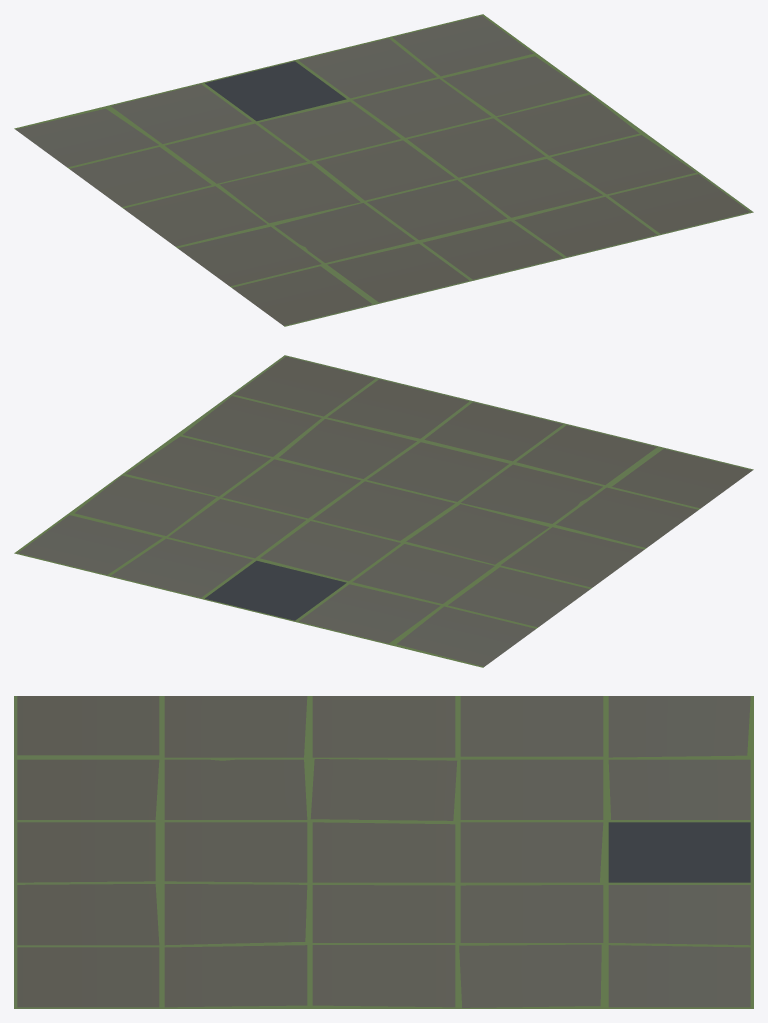
File: Tile_06.fbx
The picture shows the model from 3 angles, top to bottom: view 1: azimuth 30°, elevation 25°; view 2: azimuth 150°, elevation 25°; view 3: azimuth 270°, elevation 25°; orthographic projection. The views are drawn at different scales.
Visible parts, largest first — view 1: Tile_06; view 2: Tile_06; view 3: Tile_06.
Boxes of the visible parts, x1,y1,x2,y2 form: Tile_06: (14,14,753,326); Tile_06: (14,355,753,667); Tile_06: (14,696,753,1008).
Size of the model in its own units: 3 by 0 by 3.
